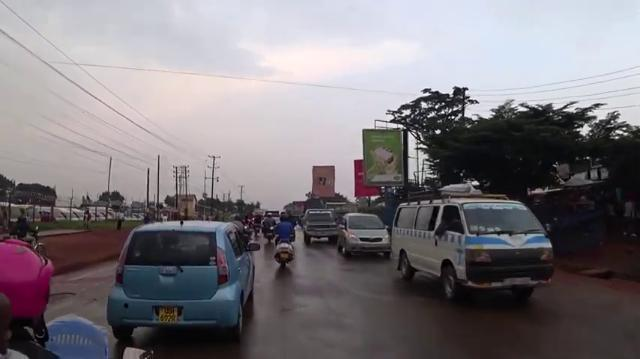car: (104, 220, 257, 343), (338, 213, 390, 258)
motorcycle: (274, 215, 297, 272), (263, 210, 275, 244)
truck: (300, 208, 340, 245)
van: (390, 182, 555, 300)
